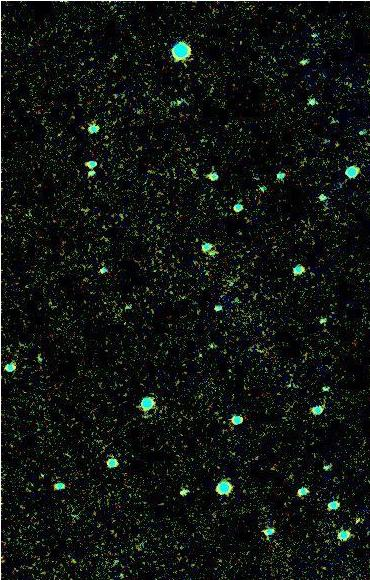star: (345, 509, 370, 539)
